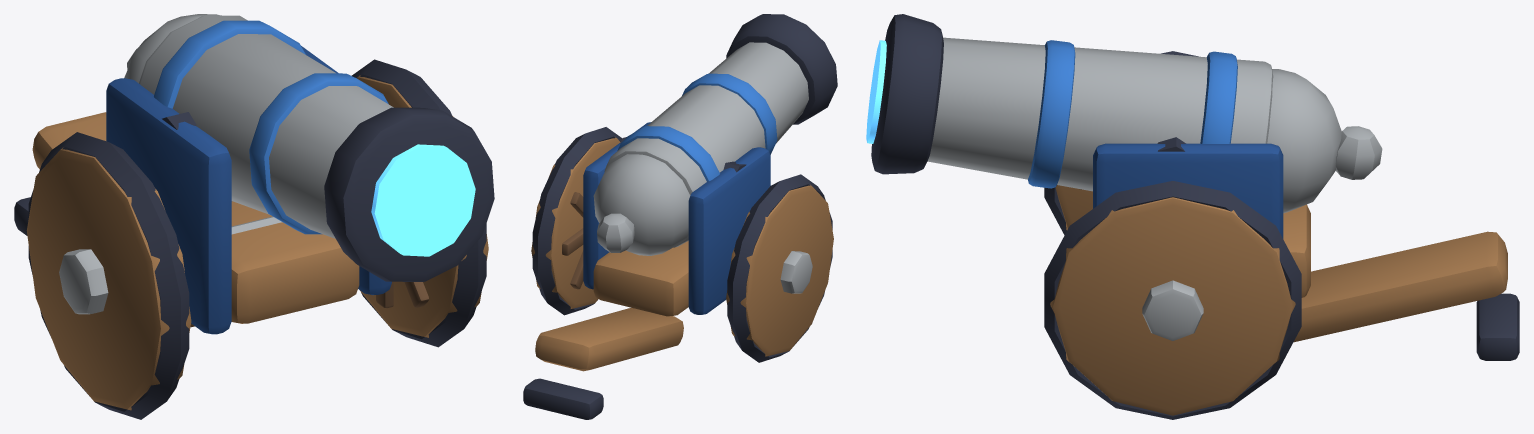
File: Cannon.fbx
The picture shows the model from 3 angles, left to right: view 1: azimuth 30°, elevation 25°; view 2: azimuth 150°, elevation 25°; view 3: azimuth 270°, elevation 25°; orthographic projection. The views are drawn at different scales.
Parts seen in each view (by area): view 1: Base, Barrel; view 2: Base, Barrel; view 3: Base, Barrel.
Part boxes in pixels (x1,y1,x2,y2): Base: (14,46,488,419); Barrel: (124,14,494,281); Base: (523,122,833,419); Barrel: (593,14,837,255); Base: (1044,51,1519,419); Barrel: (866,14,1382,213).
Bounding box in the file's own units: 1.24 × 1.2 × 2.13.
